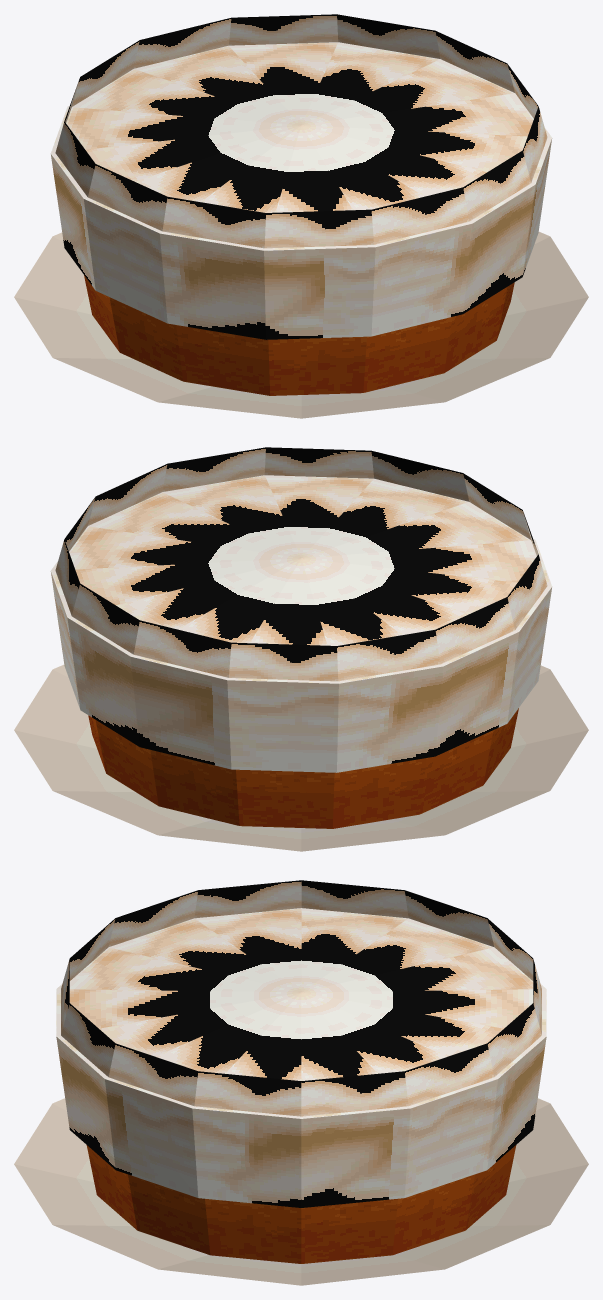
3 renders of one model, top to bottom at view 1: azimuth 30°, elevation 25°; view 2: azimuth 150°, elevation 25°; view 3: azimuth 270°, elevation 25°, orthographic.
Parts seen in each view (by area): view 1: cake; view 2: cake; view 3: cake.
Boxes of the visible parts, box(x1,y1,x2,y2) form: cake: box(14, 14, 588, 418); cake: box(14, 447, 588, 851); cake: box(14, 880, 588, 1285).
Bounding box in the file's own units: 0.9893 × 0.4709 × 0.9893.
Materials: 3 (3 with a texture image).
